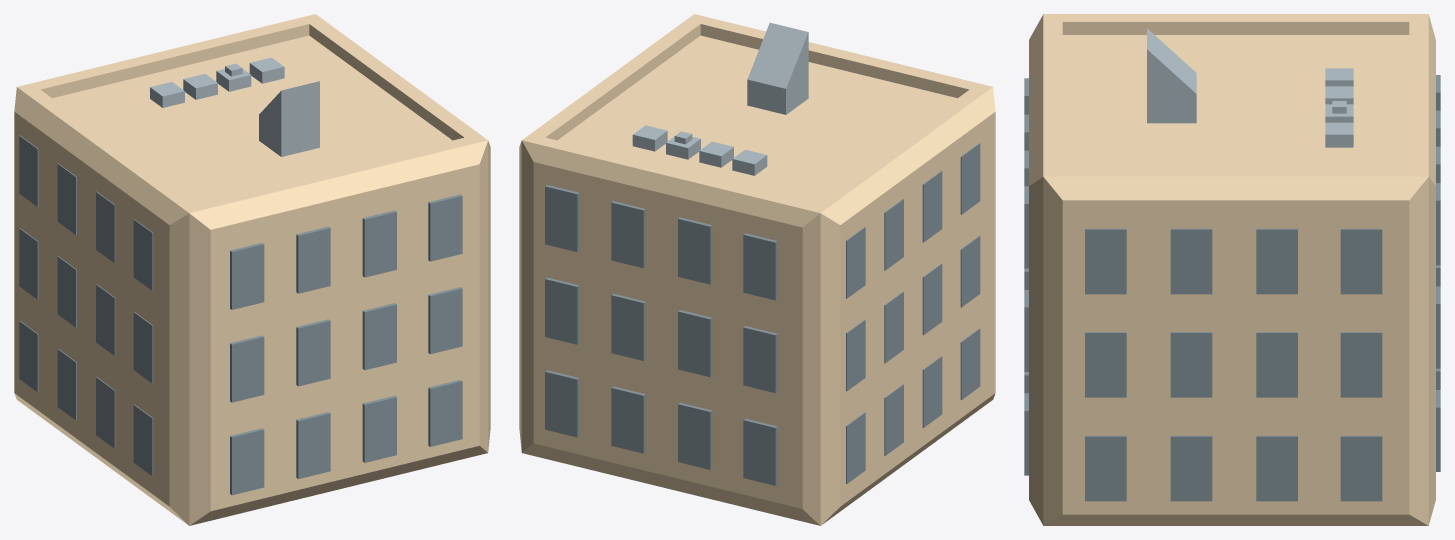
3 renders of one model, left to right at view 1: azimuth 30°, elevation 25°; view 2: azimuth 150°, elevation 25°; view 3: azimuth 270°, elevation 25°, orthographic. The views are drawn at different scales.
Parts seen in each view (by area): view 1: Node; view 2: Node; view 3: Node.
Part boxes in pixels (x1,y1,x2,y2): Node: [14, 14, 490, 525]; Node: [519, 14, 995, 525]; Node: [1024, 14, 1440, 525].
Size of the model in its own units: 0.585 by 0.635 by 0.5833.
